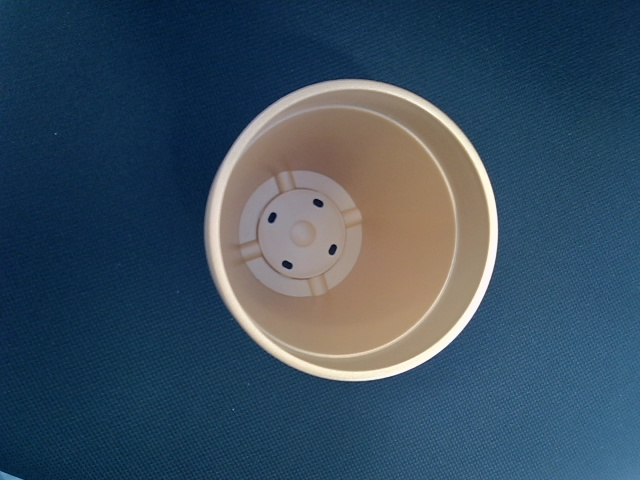화분: (205, 77, 497, 382)
